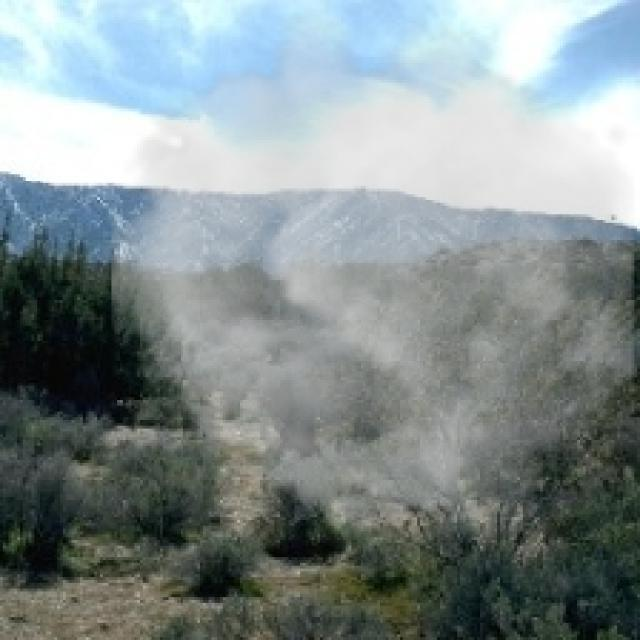Smoke: (111, 8, 634, 563)
